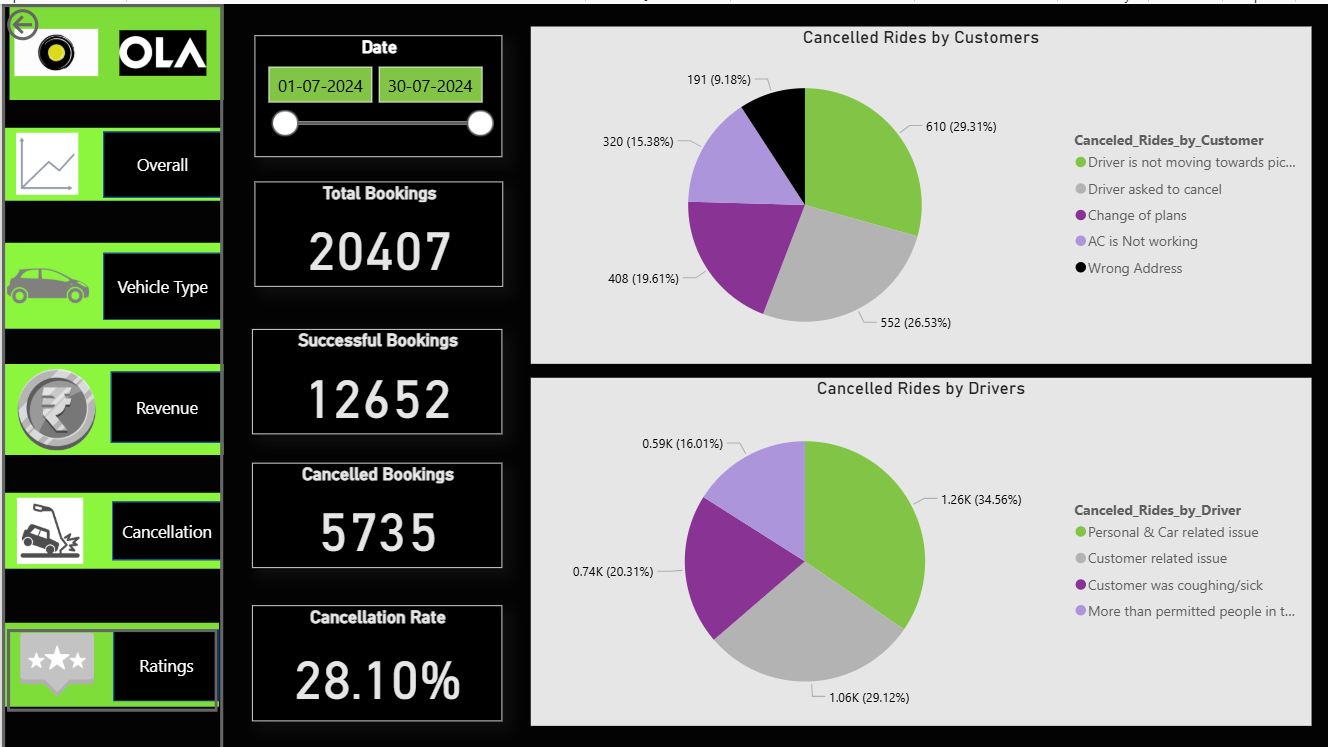

This screenshot's page, from the dashboard's own definition file:
{"tool":"powerbi","page":{"name":"Cancellation","canvas":[1280,720],"ordinal":3},"visuals":[{"type":"group","id":"g1","title":"Group 6","box":[7.2,0,206.3,92.9],"z":0},{"type":"group","id":"g2","title":"Group 7","box":[0,119.4,212.3,70],"z":1000},{"type":"group","id":"g3","title":"Group 3","box":[0,230.4,212.3,83.2],"z":2000},{"type":"group","id":"g4","title":"Group 1","box":[0,597.2,209.9,80.8],"z":3000},{"type":"group","id":"g5","title":"Group 5","box":[0,471.7,212.3,73.6],"z":4000},{"type":"image","box":[7.2,0,90.3,92.9],"z":5000,"group":"g1"},{"type":"group","id":"g6","title":"Group 8","box":[2.4,347.5,210.6,88.1],"z":5000},{"type":"actionButton","box":[0,0,213.5,720.2],"z":6000},{"type":"image","box":[96.7,20.2,117.2,53.9],"z":6000,"group":"g1"},{"type":"image","box":[0,471.7,92.1,73.6],"z":7000,"group":"g7"},{"type":"actionButton","box":[5,602.7,203.4,79.9],"z":7000},{"type":"pieChart","title":"Cancelled Rides by Customers","fields":{"Category":["July.Canceled_Rides_by_Customer"],"Y":["CountNonNull(July.Canceled_Rides_by_Customer)"]},"box":[510.4,21.2,753.7,325.7],"z":8000},{"type":"image","box":[0,230.4,89,83.2],"z":8000,"group":"g3"},{"type":"pieChart","title":"Cancelled Rides by Drivers","fields":{"Category":["July.Canceled_Rides_by_Driver"],"Y":["CountNonNull(July.Canceled_Rides_by_Driver)"]},"box":[510.4,360.6,753.7,335.7],"z":9000},{"type":"slicer","title":"Date","fields":{"Values":["July.Date"]},"box":[243.3,29.9,239.6,117.3],"z":10000},{"type":"image","box":[0,597.2,106.2,80.8],"z":10000,"group":"g4"},{"type":"image","box":[0,119.4,86.6,70],"z":11000,"group":"g8"},{"type":"card","title":"Total Bookings","fields":{"Values":["Count(July.Booking_ID)"]},"box":[243.2,171.6,240.2,101.5],"z":11000},{"type":"image","box":[2.4,347.5,100.7,88.1],"z":11001,"group":"g6"},{"type":"group","id":"g7","title":"Group 4","box":[0,471.7,92.1,73.6],"z":11005,"group":"g5"},{"type":"group","id":"g8","title":"Group 2","box":[0,119.4,86.6,70],"z":11007,"group":"g2"},{"type":"shape","box":[97.9,123,114.4,63.9],"z":11014,"group":"g2"},{"type":"shape","box":[97.7,239.5,114.6,65.1],"z":11015,"group":"g3"},{"type":"shape","box":[104.4,354.3,108.6,68.8],"z":11016,"group":"g6"},{"type":"shape","box":[106.2,480.5,106.2,56.7],"z":11017,"group":"g5"},{"type":"shape","box":[107.4,603.2,102.5,70],"z":11018,"group":"g4"},{"type":"card","title":"Successful Bookings","fields":{"Values":["Count(July.Booking_ID)"]},"box":[241.7,313.4,241.7,101.5],"z":12000},{"type":"card","title":"Cancelled Bookings","fields":{"Values":["Count(July.Booking_ID)"]},"box":[241.7,443.2,241.7,101.5],"z":13000},{"type":"card","title":"Cancellation Rate","fields":{"Values":["July.CanceledPercentage"]},"box":[241.7,580.5,241.7,111.9],"z":14000},{"type":"actionButton","box":[0,0,100,40],"z":15000}]}

Visuals, with their boxes in screenshot pixels (x1, y1, x2, y2), scaled from the page's 1280x720 canvas onto the 1328x747 screenshot:
"Group 6" group: rect(7, 0, 222, 96)
"Group 7" group: rect(0, 124, 220, 197)
"Group 3" group: rect(0, 239, 220, 325)
"Group 1" group: rect(0, 620, 218, 703)
"Group 5" group: rect(0, 489, 220, 566)
image: rect(7, 0, 101, 96)
"Group 8" group: rect(2, 361, 221, 452)
actionButton: rect(0, 0, 222, 746)
image: rect(100, 21, 222, 77)
image: rect(0, 489, 96, 566)
actionButton: rect(5, 625, 216, 708)
"Cancelled Rides by Customers" pieChart: rect(530, 22, 1312, 360)
image: rect(0, 239, 92, 325)
"Cancelled Rides by Drivers" pieChart: rect(530, 374, 1312, 722)
"Date" slicer: rect(252, 31, 501, 153)
image: rect(0, 620, 110, 703)
image: rect(0, 124, 90, 197)
"Total Bookings" card: rect(252, 178, 502, 283)
image: rect(2, 361, 107, 452)
"Group 4" group: rect(0, 489, 96, 566)
"Group 2" group: rect(0, 124, 90, 197)
shape: rect(102, 128, 220, 194)
shape: rect(101, 248, 220, 316)
shape: rect(108, 368, 221, 439)
shape: rect(110, 499, 220, 557)
shape: rect(111, 626, 218, 698)
"Successful Bookings" card: rect(251, 325, 502, 430)
"Cancelled Bookings" card: rect(251, 460, 502, 565)
"Cancellation Rate" card: rect(251, 602, 502, 718)
actionButton: rect(0, 0, 104, 42)
